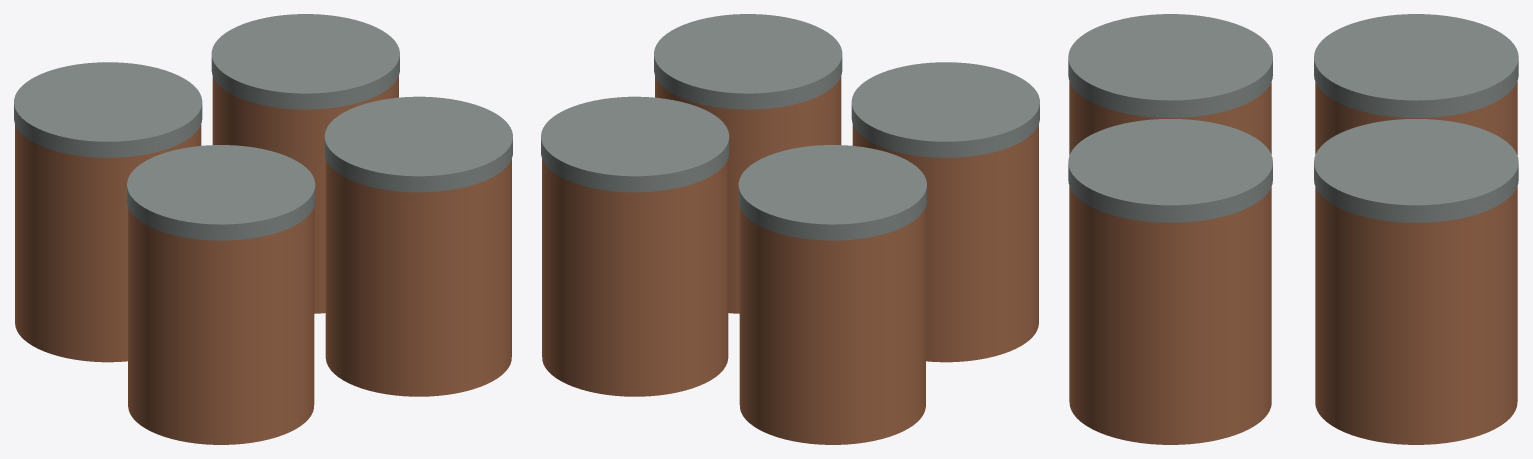
Rendered from tin_rations.glb.
The picture shows the model from 3 angles, left to right: view 1: azimuth 30°, elevation 25°; view 2: azimuth 150°, elevation 25°; view 3: azimuth 270°, elevation 25°; orthographic projection. The views are drawn at different scales.
Parts seen in each view (by area): view 1: Food can, Food can.001, Food can.002, Metal lid.001, Metal lid.002, Metal lid.003, Metal lid, Food can.003; view 2: Food can.002, Food can.003, Food can, Metal lid.003, Metal lid, Metal lid.001, Metal lid.002, Food can.001; view 3: Food can.001, Food can.003, Metal lid, Metal lid.001, Metal lid.002, Metal lid.003, Food can, Food can.002.
Boxes of the visible parts, <box> form: Food can: <box>128,207,314,444</box>; Food can.001: <box>325,159,511,396</box>; Food can.002: <box>15,124,201,362</box>; Metal lid.001: <box>324,96,512,192</box>; Metal lid.002: <box>14,62,202,157</box>; Metal lid.003: <box>211,14,399,109</box>; Metal lid: <box>127,145,315,240</box>; Food can.003: <box>212,76,398,313</box>; Food can.002: <box>739,207,925,444</box>; Food can.003: <box>542,159,728,396</box>; Food can: <box>852,124,1038,362</box>; Metal lid.003: <box>541,96,729,192</box>; Metal lid: <box>851,62,1039,157</box>; Metal lid.001: <box>654,14,842,109</box>; Metal lid.002: <box>738,145,926,240</box>; Food can.001: <box>655,76,841,313</box>; Food can.001: <box>1069,186,1271,444</box>; Food can.003: <box>1315,186,1517,444</box>; Metal lid: <box>1068,14,1272,117</box>; Metal lid.001: <box>1068,119,1272,222</box>; Metal lid.002: <box>1314,14,1518,117</box>; Metal lid.003: <box>1314,119,1518,222</box>; Food can: <box>1069,81,1271,155</box>; Food can.002: <box>1315,81,1517,155</box>.
Bounding box in the file's own units: 0.188 × 0.11 × 0.187.
